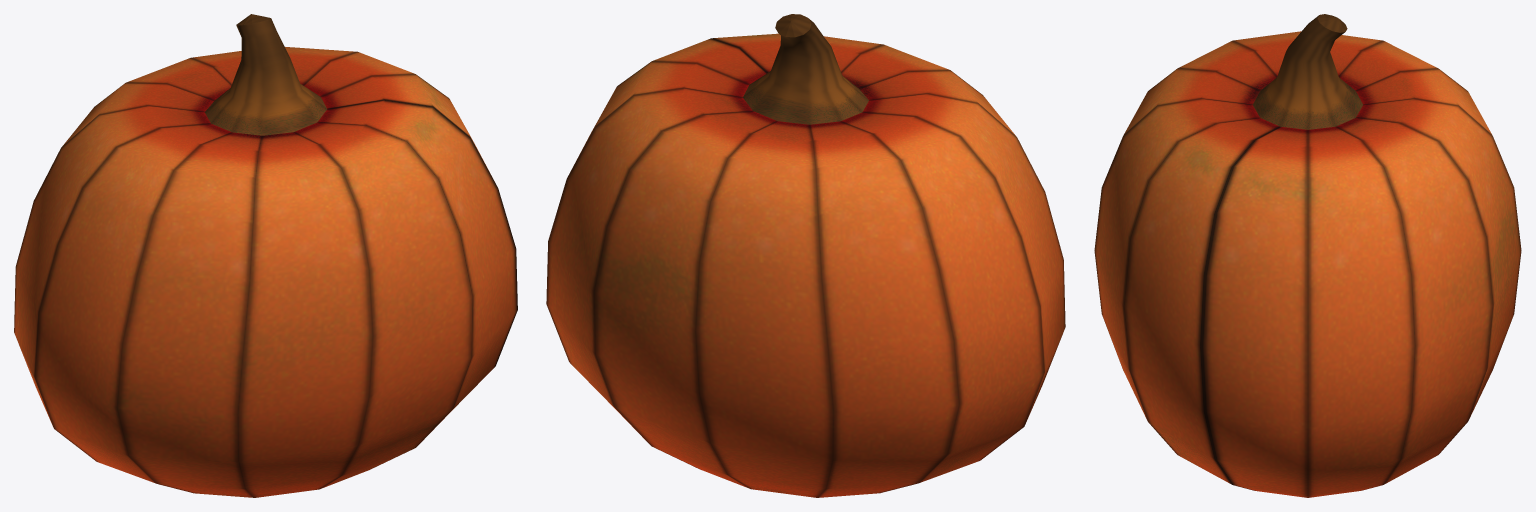
Rendered from pumpkin2.fbx.
3 views of the same model, side by side, from view 1: azimuth 30°, elevation 25°; view 2: azimuth 150°, elevation 25°; view 3: azimuth 270°, elevation 25° (orthographic). The views are drawn at different scales.
Visible parts, largest first — view 1: Shell; view 2: Shell; view 3: Shell.
Boxes of the visible parts, x1,y1,x2,y2 form: Shell: (14, 14, 517, 497); Shell: (546, 14, 1065, 497); Shell: (1094, 14, 1521, 497).
Size of the model in its own units: 6.91 by 6.38 by 5.52.
1 material, 1 textured.
